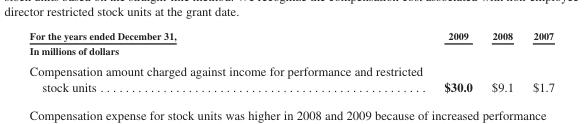table: (28, 29, 553, 93)
table column: (28, 29, 432, 93), (432, 29, 481, 93), (481, 29, 522, 93), (522, 29, 553, 93)
table column header: (28, 29, 553, 42)
table projected row header: (28, 42, 553, 59)
table row: (28, 59, 553, 93), (28, 42, 553, 59), (28, 29, 553, 42)
